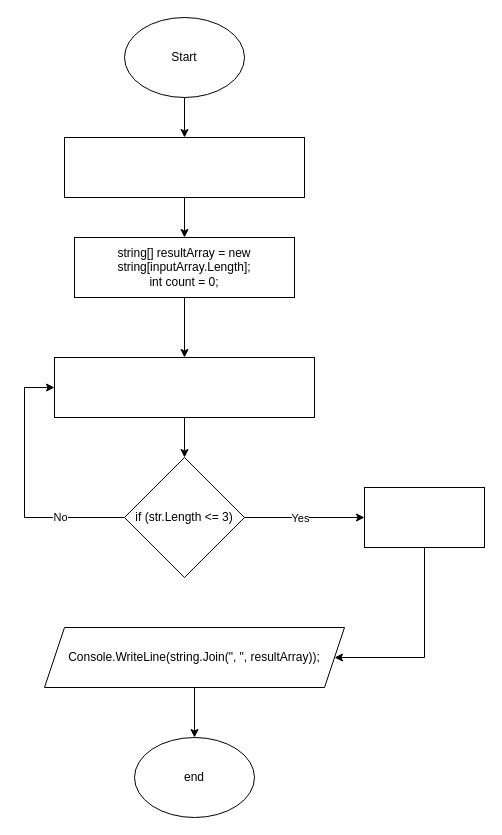
Some shapes in this 502 by 835 pixel diagram are drawn without their labels. Here are the shapes that lost their labels. From the top down, the centre of each, then its label:
(x=184, y=167): string [] inputArray = { "Hello" , "2" , "world" , ":-)" };
(x=184, y=387): foreach ( string str in inputArray)
(x=424, y=517): resultArray[count] = str; count++;
